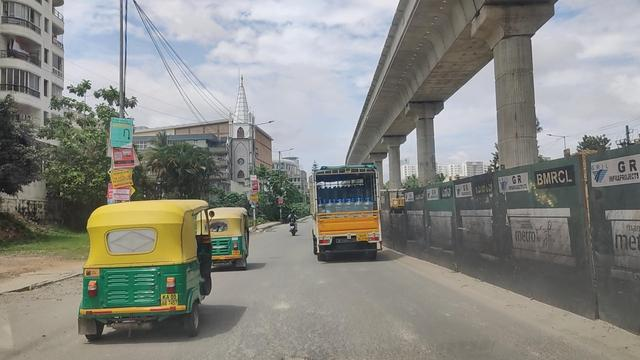HMV: (309, 159, 386, 267)
LMV: (86, 198, 205, 347), (186, 204, 249, 281), (287, 207, 301, 245)
